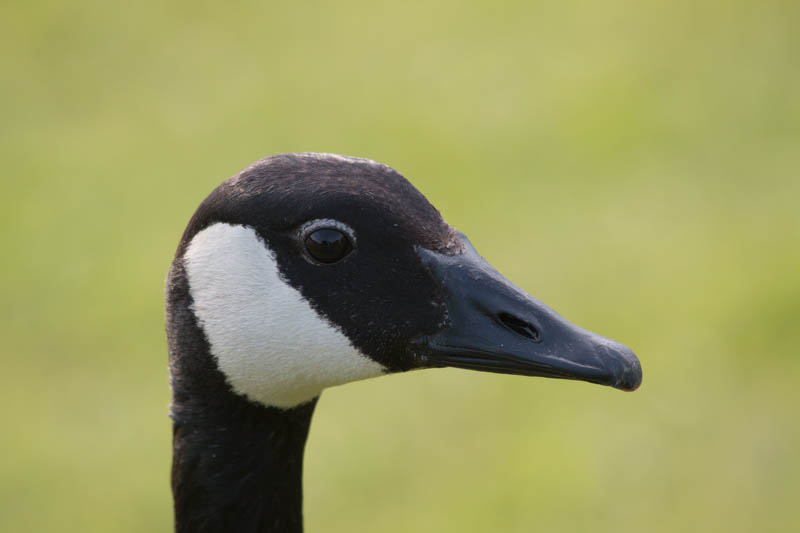goose-head: (164, 154, 643, 413)
